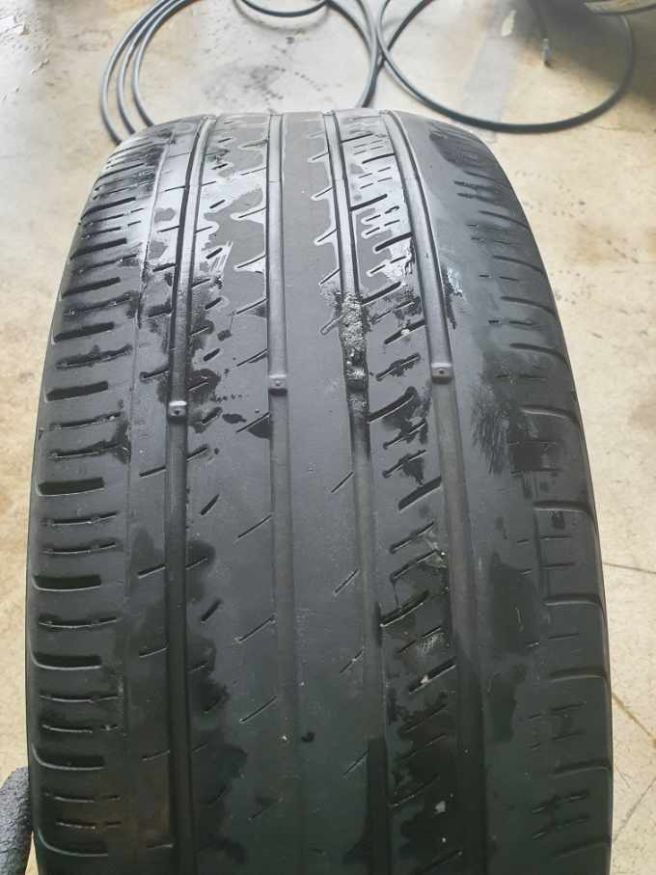bad_condition: (25, 111, 613, 875)
